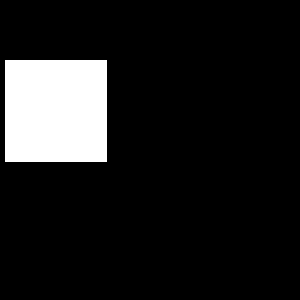circle: (5, 60, 107, 162)
